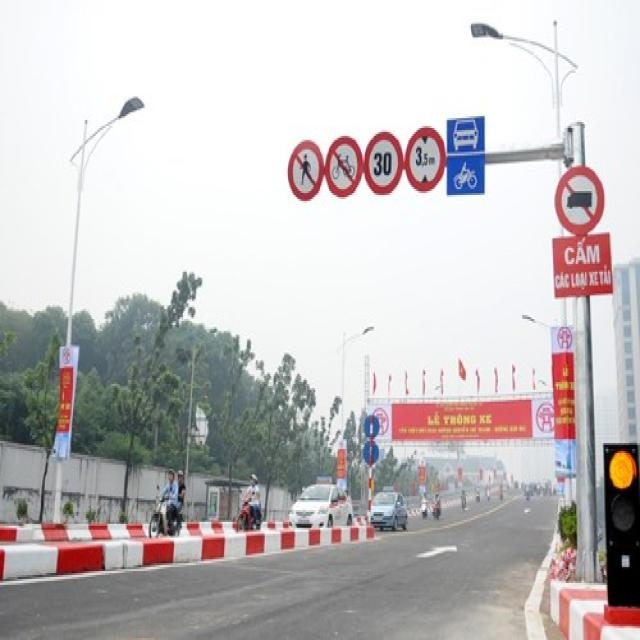bien_cam: (554, 162, 605, 236), (445, 115, 487, 194), (406, 124, 445, 191), (364, 132, 404, 196), (323, 134, 362, 196), (288, 138, 324, 203)
